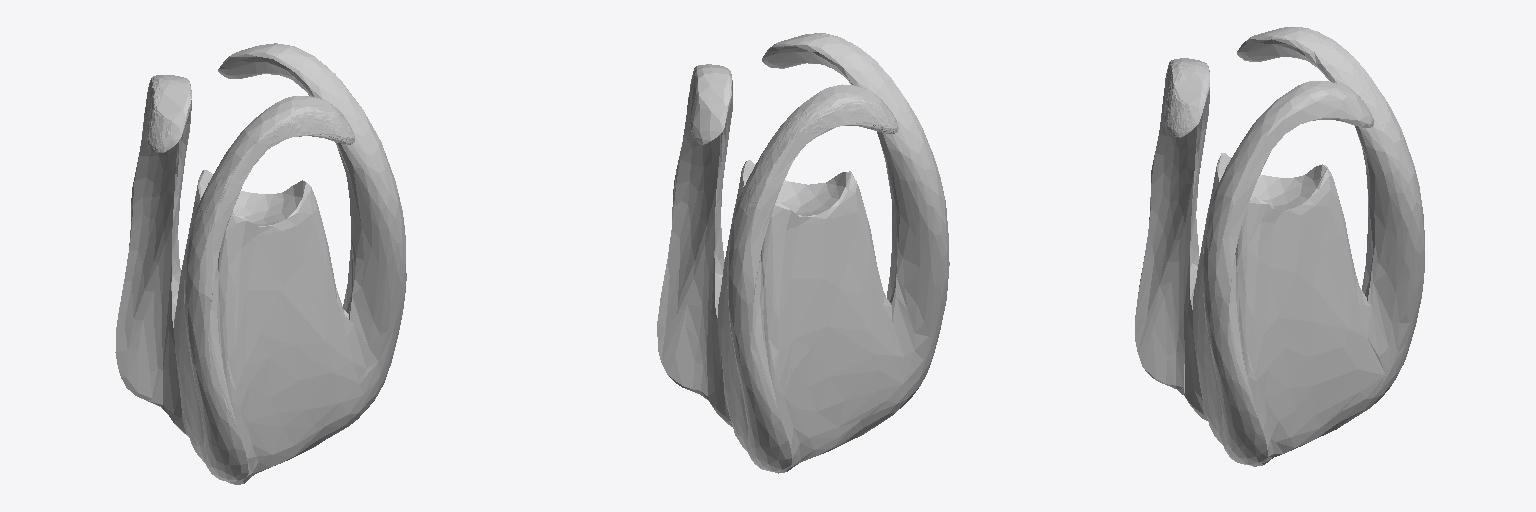
Rendered from move-tall.obj.
The picture shows the model from 3 angles: view 1: azimuth 30°, elevation 25°; view 2: azimuth 150°, elevation 25°; view 3: azimuth 270°, elevation 25°; orthographic projection.
Visible parts, largest first — view 1: Quad_Sphere; view 2: Quad_Sphere; view 3: Quad_Sphere.
Part boxes in pixels (x1,y1,x2,y2): Quad_Sphere: (115, 43, 406, 484); Quad_Sphere: (657, 33, 949, 473); Quad_Sphere: (1135, 27, 1424, 466).
Size of the model in its own units: 5.56 by 8.11 by 5.69.